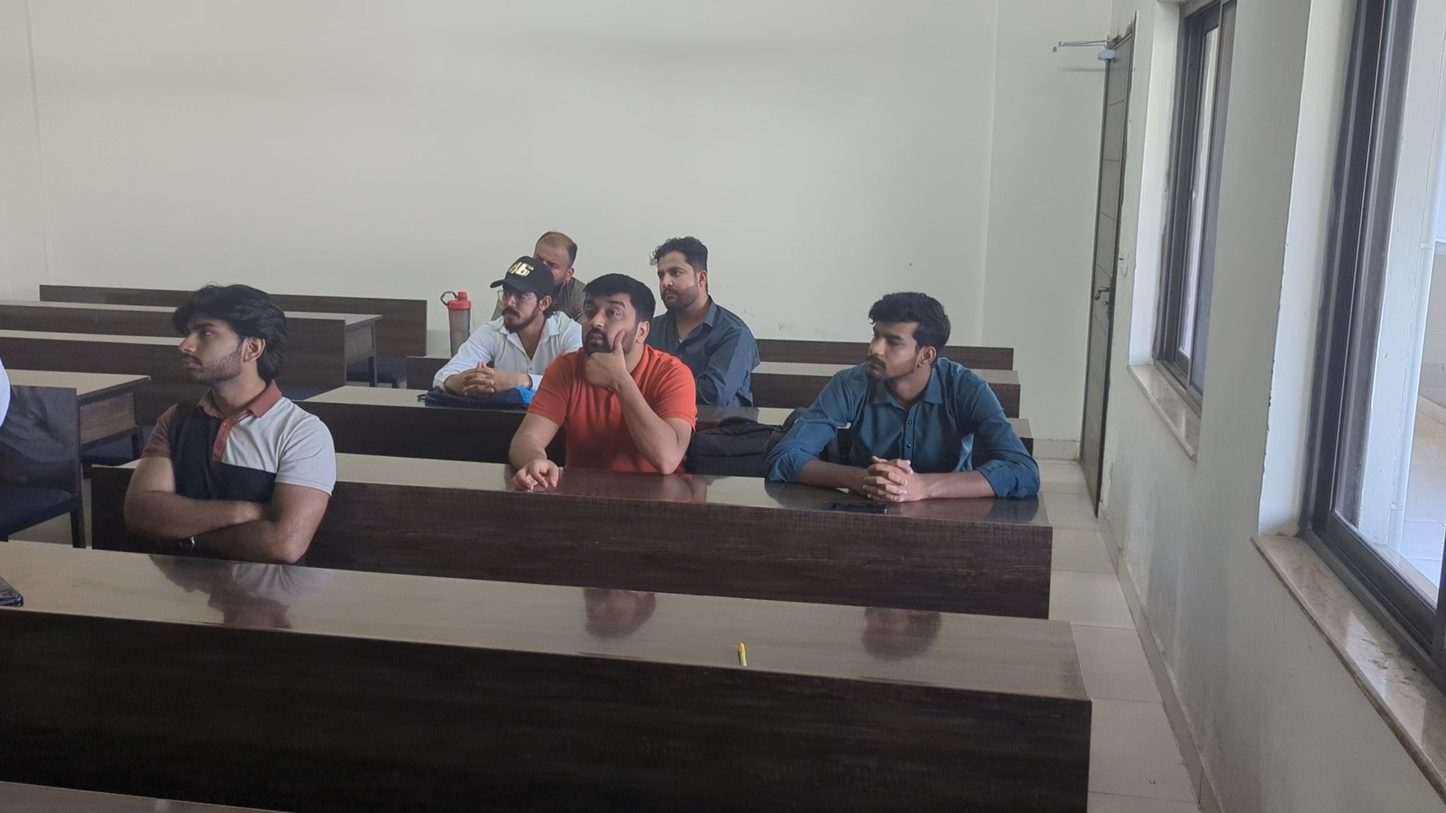look_forward: (175, 281, 320, 515), (825, 273, 966, 459), (577, 278, 696, 468), (653, 236, 739, 335), (479, 247, 550, 356), (538, 223, 593, 299)
